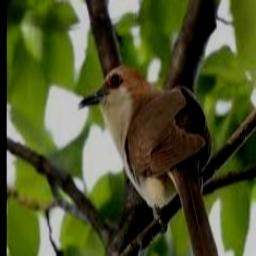Cuckoo: (80, 63, 219, 256)
